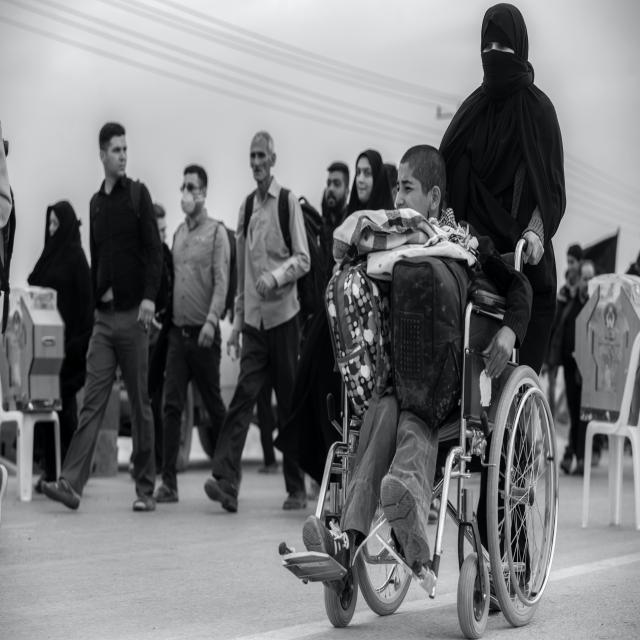wheelchairs: (277, 234, 558, 640)
